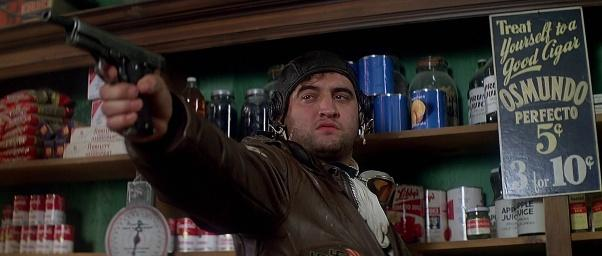Gun: (40, 8, 166, 139)
